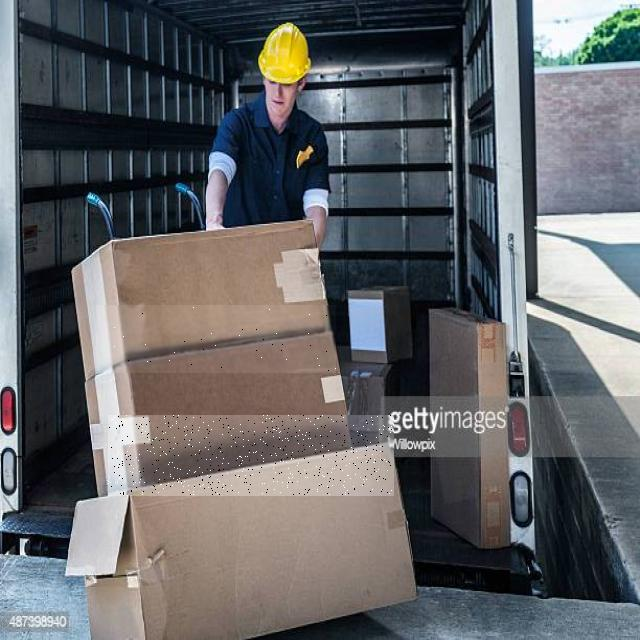tear: (109, 415, 392, 495), (98, 305, 336, 373)
